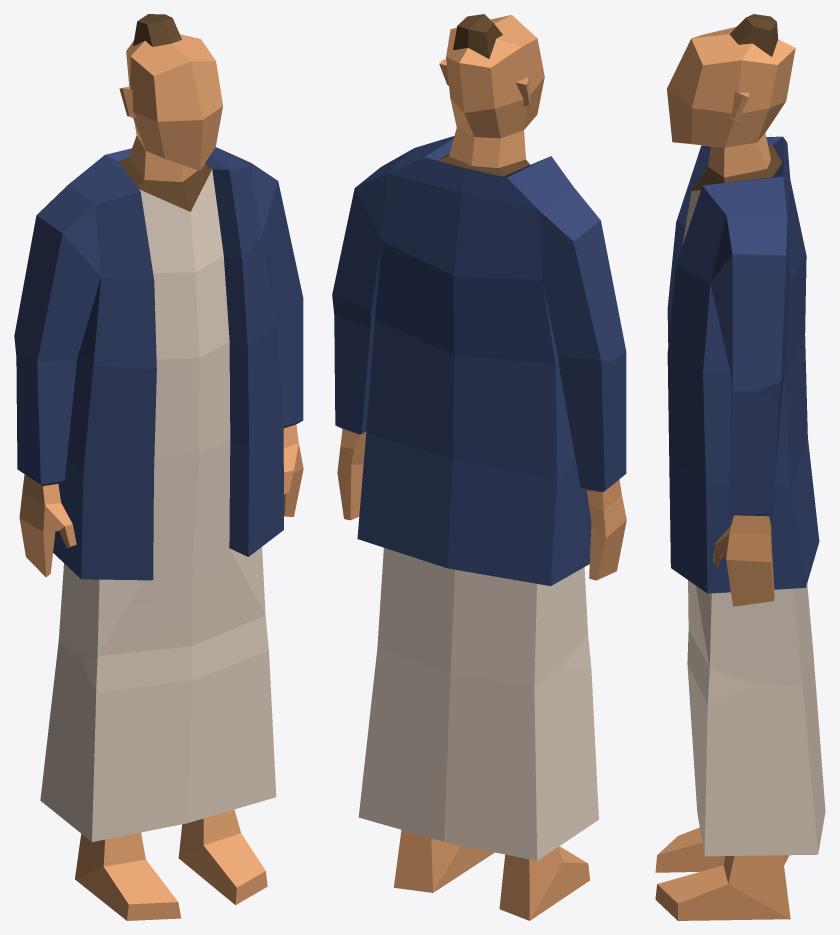
The model's file is people_man-samurai.fbx.
3 renders of one model, left to right at view 1: azimuth 30°, elevation 25°; view 2: azimuth 150°, elevation 25°; view 3: azimuth 270°, elevation 25°, orthographic.
Visible parts, largest first — view 1: people_man_samurai; view 2: people_man_samurai; view 3: people_man_samurai.
Boxes of the visible parts, <box> form: people_man_samurai: <box>14,14,303,920</box>; people_man_samurai: <box>332,14,626,920</box>; people_man_samurai: <box>655,14,825,920</box>.
Bounding box in the file's own units: 64.87 × 200 × 35.49.
